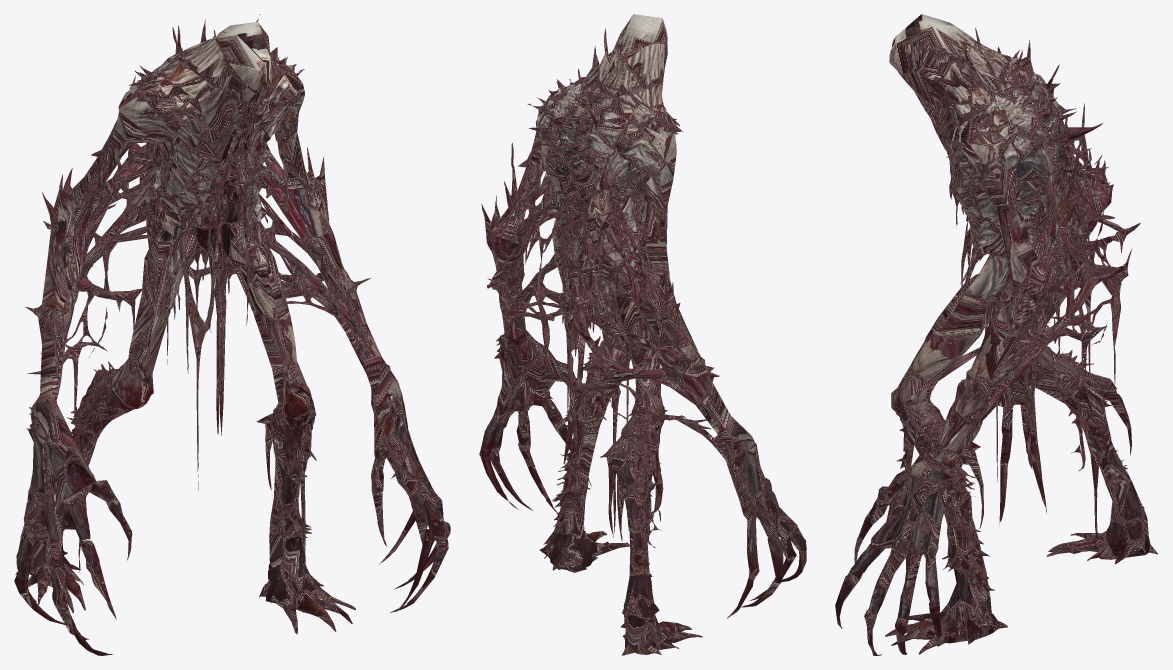
Rendered from mx_dr_sinew.glb.
3 views of the same model, side by side, from view 1: azimuth 30°, elevation 25°; view 2: azimuth 150°, elevation 25°; view 3: azimuth 270°, elevation 25° (orthographic). The views are drawn at different scales.
Visible parts, largest first — view 1: Mesh_0; view 2: Mesh_0; view 3: Mesh_0.
Boxes of the visible parts, bbox=[...] form: Mesh_0: bbox=[14, 14, 450, 655]; Mesh_0: bbox=[479, 14, 806, 655]; Mesh_0: bbox=[835, 14, 1158, 655].
Size of the model in its own units: 1.24 by 1.88 by 0.9396.
1 material, 1 textured.
